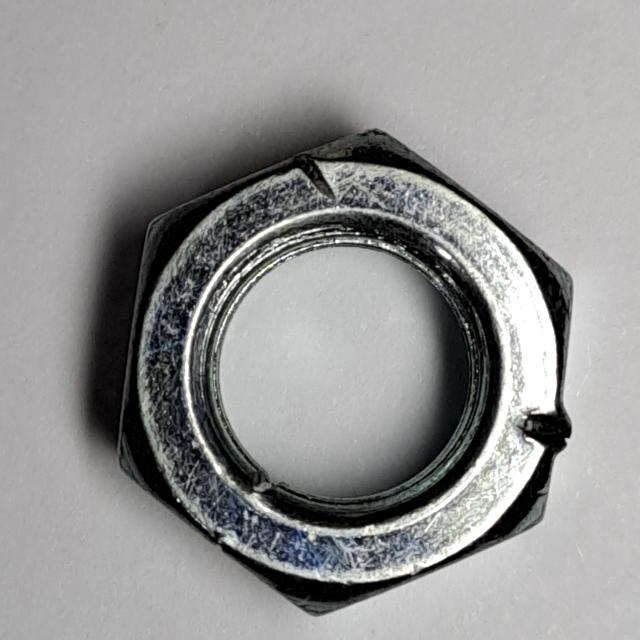Scratches: (106, 117, 583, 629)
